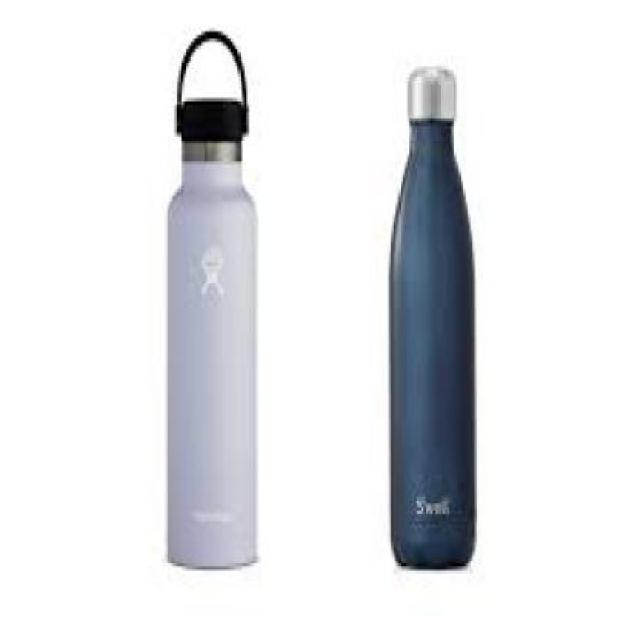Drinking: (144, 28, 282, 570), (382, 3, 496, 585)
